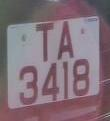1: (60, 59, 73, 102)
3: (15, 60, 43, 110)
4: (40, 60, 63, 105)
8: (70, 57, 93, 100)
A: (52, 20, 78, 60)
T: (32, 21, 56, 62)
